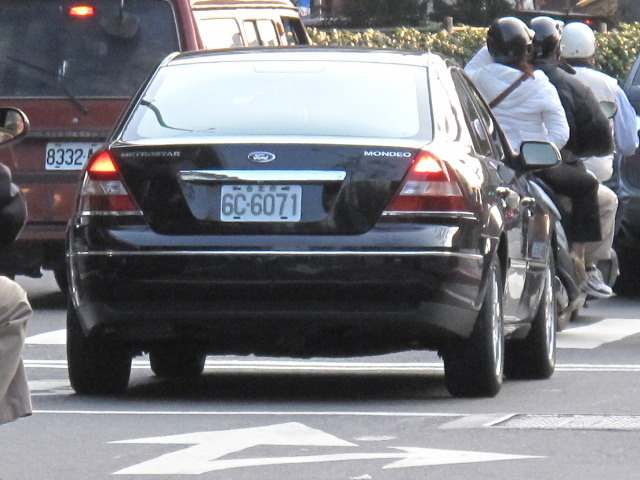plate: (220, 180, 304, 225), (43, 139, 110, 175)
